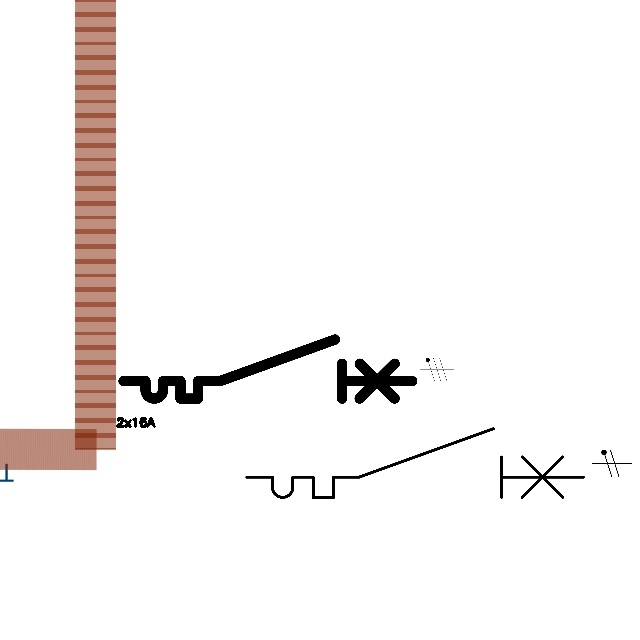interruptor_termomagnetico: (238, 420, 592, 506), (116, 332, 420, 406)
